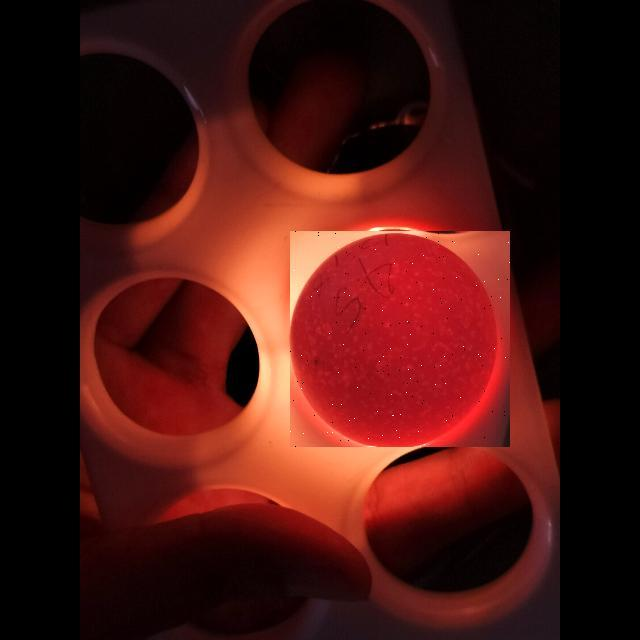Infertile: (290, 231, 510, 447)
